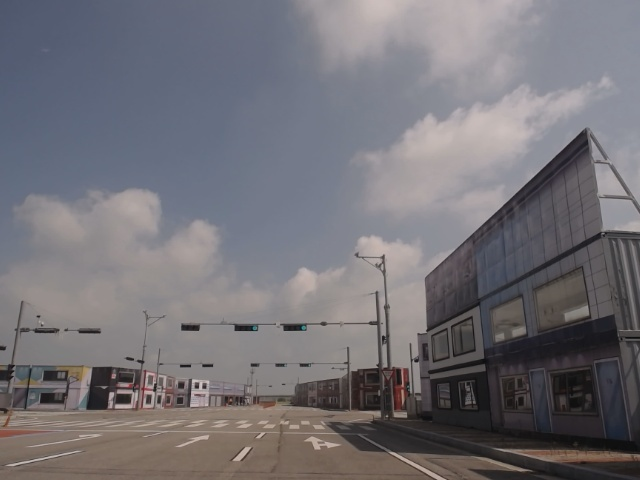straight_green_4: (235, 325, 259, 332), (282, 325, 308, 330)
